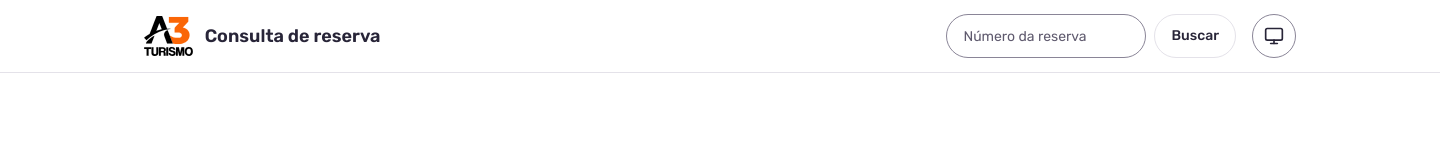
Test: letras coladas na busca também somem
Click the field labelled "Número da reserva" at coordinates (1046, 36), box [946,14,1146,58]
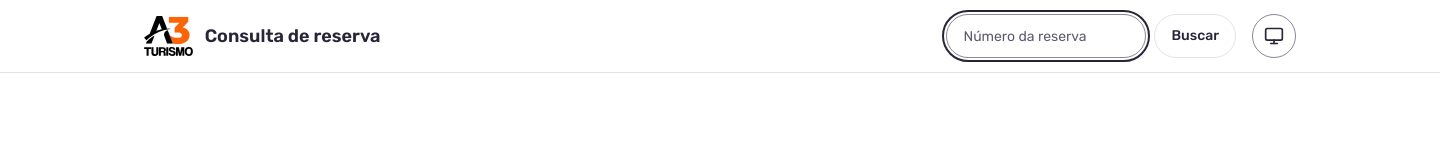
Type keys "RES-9000 0001 "
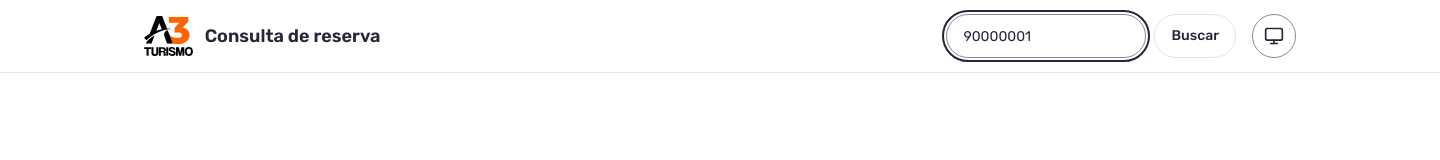
Expected: the field named "Número da reserva" holds "90000001", [946,14,1146,58]
